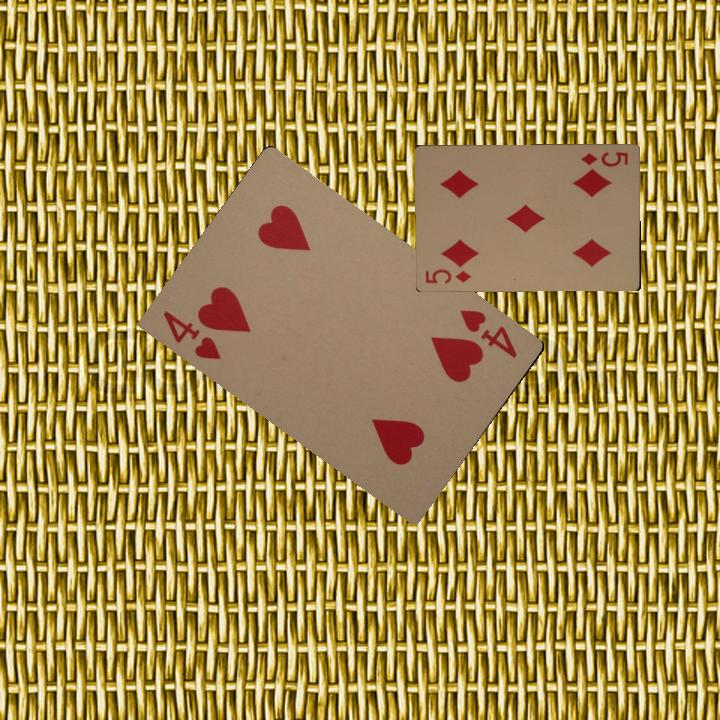4h: (159, 306, 224, 363), (456, 305, 520, 361)
5d: (577, 148, 630, 169), (421, 265, 473, 286)
